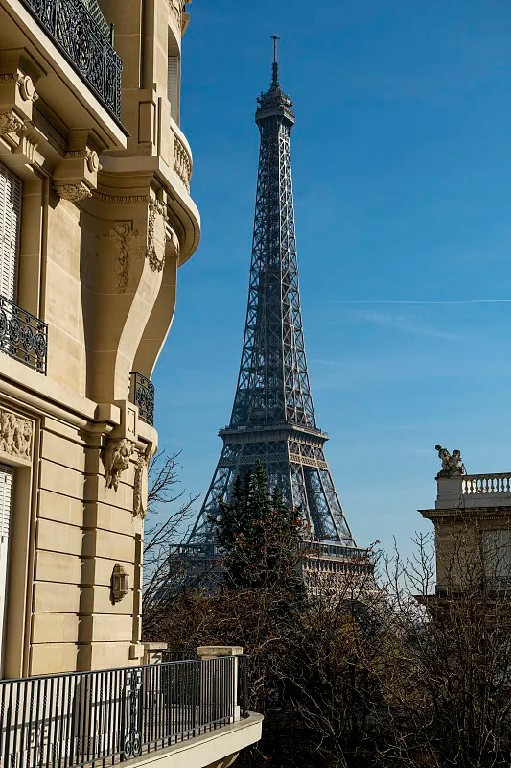Eiffel: (168, 37, 389, 627)
